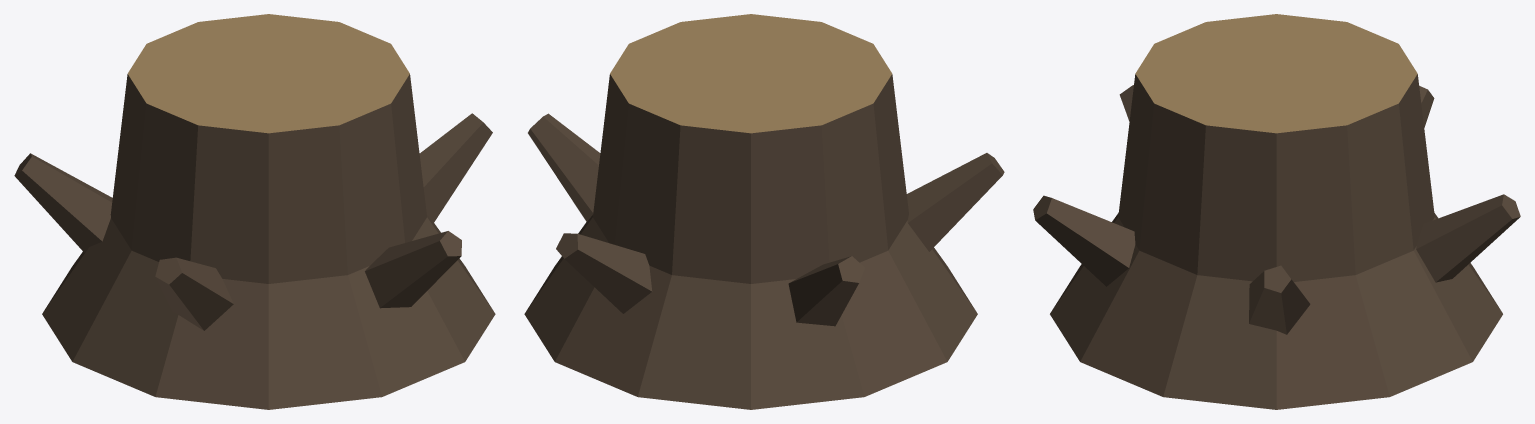
File: stump.glb
3 views of the same model, side by side, from view 1: azimuth 30°, elevation 25°; view 2: azimuth 150°, elevation 25°; view 3: azimuth 270°, elevation 25° (orthographic).
Parts seen in each view (by area): view 1: stump; view 2: stump; view 3: stump.
Boxes of the visible parts, x1=… form: stump: x1=14, y1=14, x2=495, y2=409; stump: x1=524, y1=14, x2=1004, y2=409; stump: x1=1033, y1=14, x2=1520, y2=409.
Size of the model in its own units: 1.13 by 0.6504 by 1.14.
